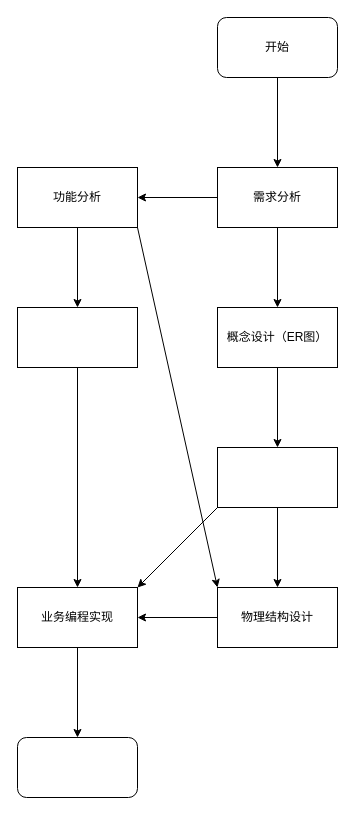
The diagram is 355 pixels wide and 815 high, and some of its shapes have lost their labels. Here are the shapes that lost their labels. From the top down, the centre of each, then its label:
At pixel 77 337: "应用编程设计".
At pixel 277 477: "逻辑结构设计".
At pixel 77 767: "结束".
